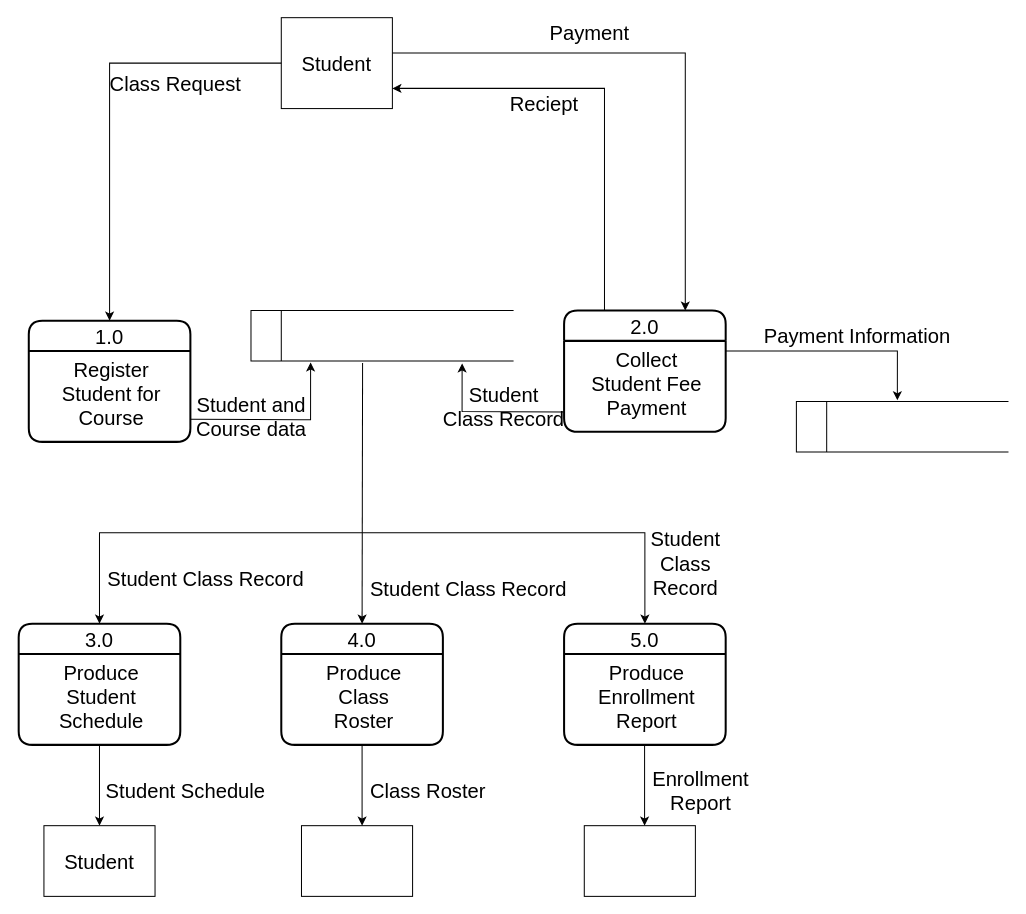
The diagram is 1026 pixels wide and 914 high, and some of its shapes have lost their labels. The centre of each missing label's shape, as x and y in pixels:
D1 Student Class Records: (x=382, y=335)
D2 Student Payment: (x=901, y=426)
Professer: (x=356, y=860)
Registrar: (x=639, y=860)
